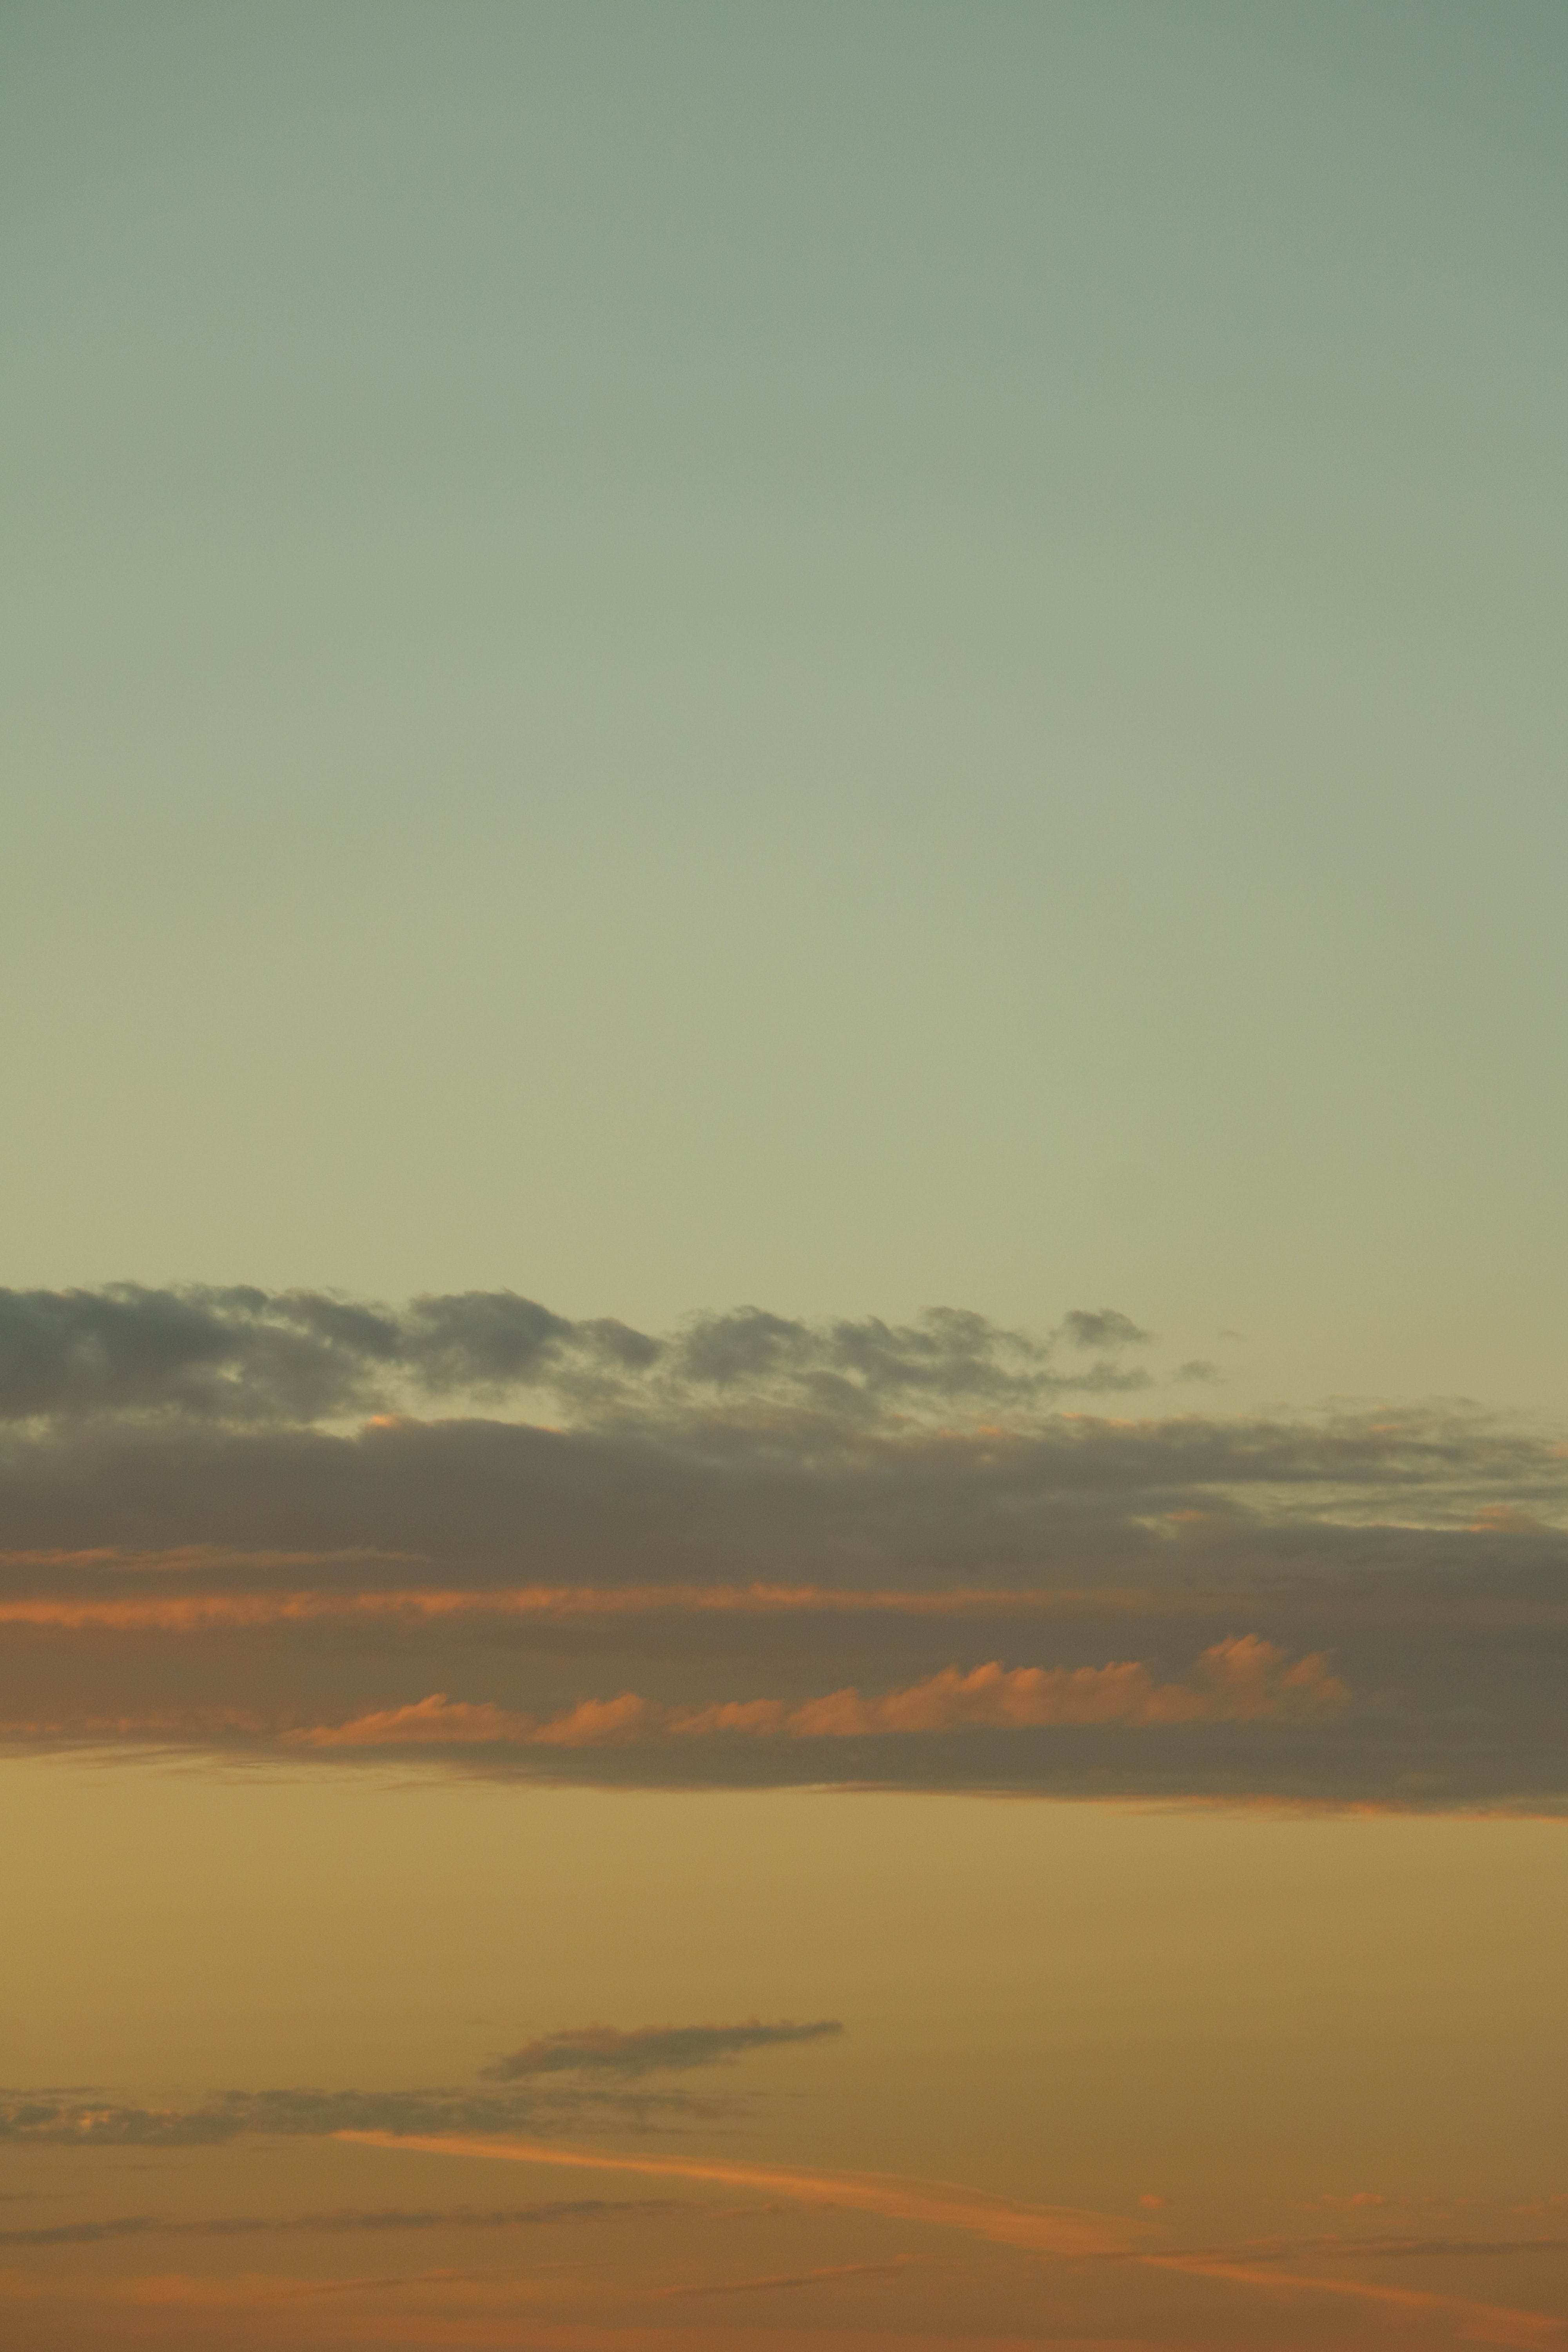Stratus: (2, 1209, 1568, 1866), (9, 1981, 1568, 2336)
